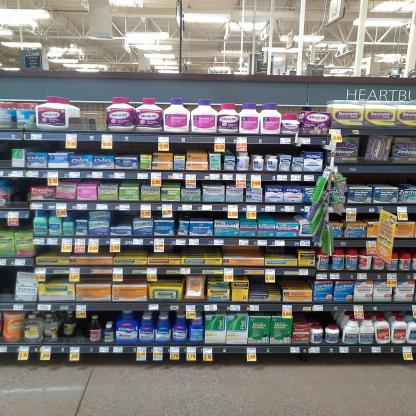Void: (351, 175, 414, 187), (76, 100, 104, 126), (10, 180, 30, 204), (109, 212, 128, 229), (1, 267, 10, 296), (249, 275, 262, 287), (80, 320, 88, 336)
